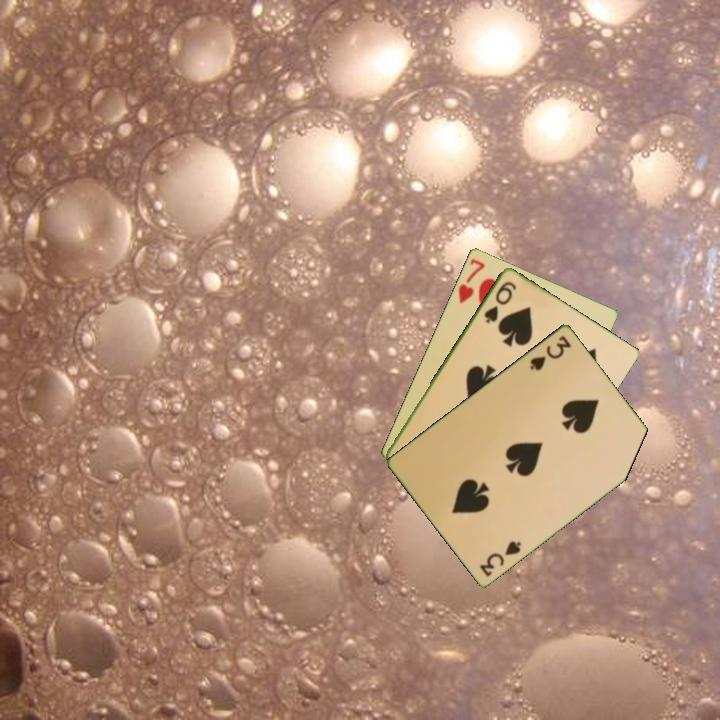3s: (476, 537, 524, 579), (526, 332, 574, 373)
6s: (480, 277, 519, 326)
7h: (454, 255, 488, 306)
